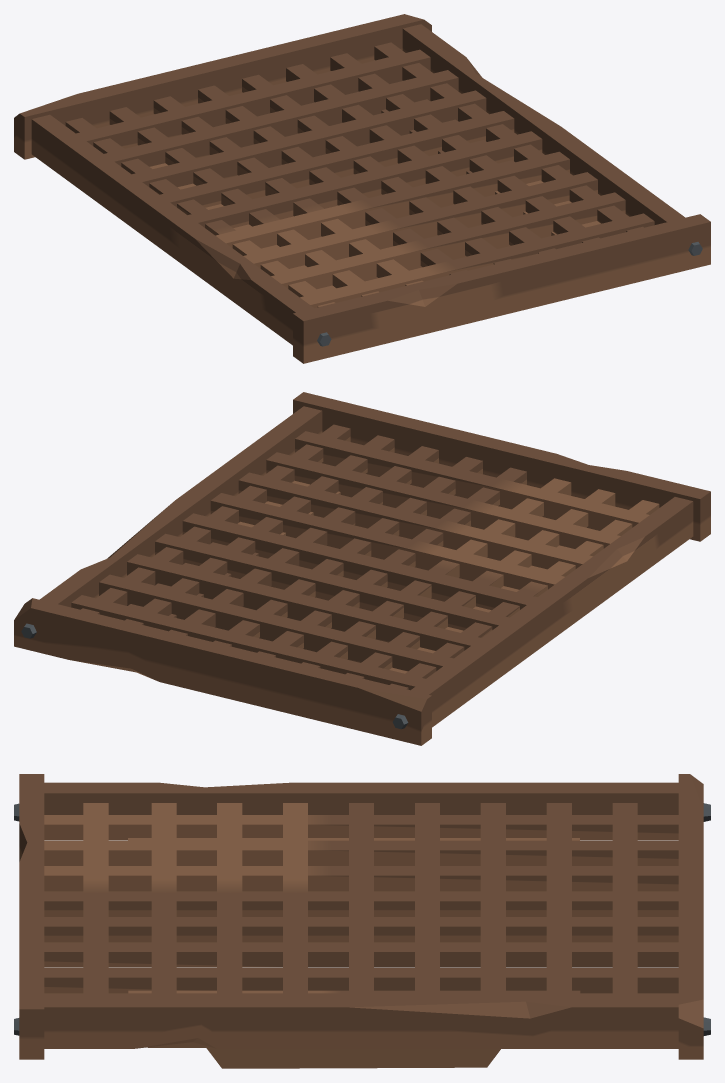
The model's file is SM_Prop_Mast_Platform_01.fbx.
3 views of the same model, one above another, from view 1: azimuth 30°, elevation 25°; view 2: azimuth 150°, elevation 25°; view 3: azimuth 270°, elevation 25° (orthographic). The views are drawn at different scales.
Visible parts, largest first — view 1: SM_Prop_Mast_Platform_01; view 2: SM_Prop_Mast_Platform_01; view 3: SM_Prop_Mast_Platform_01.
Part boxes in pixels (x1,y1,x2,y2): SM_Prop_Mast_Platform_01: (14,14,710,363); SM_Prop_Mast_Platform_01: (14,392,710,745); SM_Prop_Mast_Platform_01: (14,774,710,1068).
Bounding box in the file's own units: 253 × 46.78 × 317.
